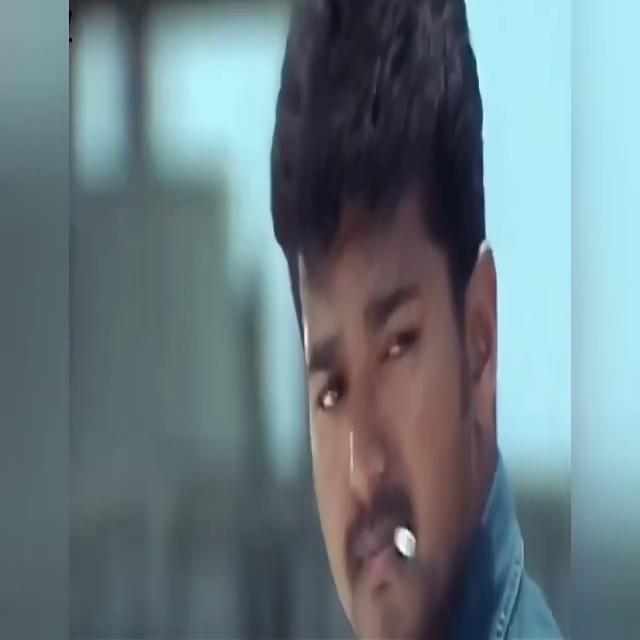smoking: (370, 546, 428, 548)
